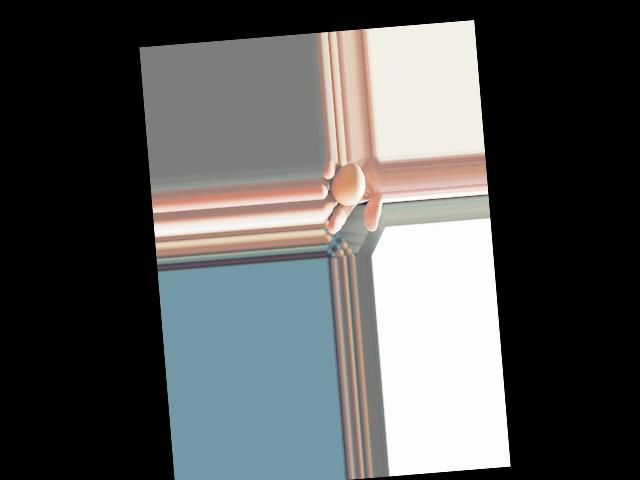egg: (328, 161, 366, 207)
